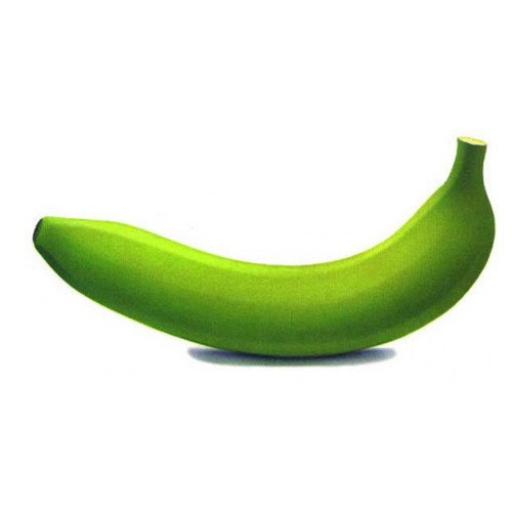banana-unripe: (8, 125, 512, 381)
